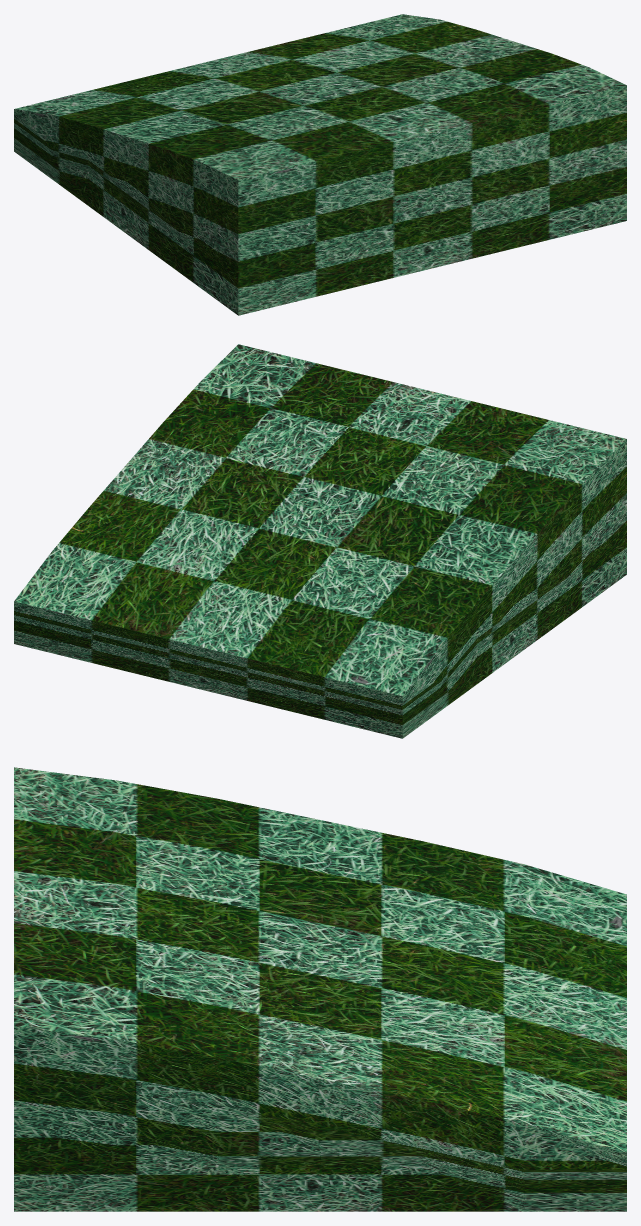
The model's file is Floor9RampDown.fbx.
The picture shows the model from 3 angles, top to bottom: view 1: azimuth 30°, elevation 25°; view 2: azimuth 150°, elevation 25°; view 3: azimuth 270°, elevation 25°; orthographic projection. The views are drawn at different scales.
Visible parts, largest first — view 1: Floor.009RampDown; view 2: Floor.009RampDown; view 3: Floor.009RampDown.
Boxes of the visible parts, x1,y1,x2,y2 form: Floor.009RampDown: [14, 14, 626, 315]; Floor.009RampDown: [14, 344, 626, 738]; Floor.009RampDown: [14, 767, 626, 1211].
Bounding box in the file's own units: 150 × 50 × 150.
